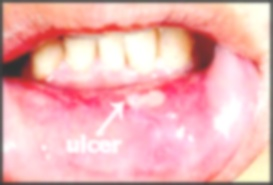Ulcer: (118, 89, 172, 111)
